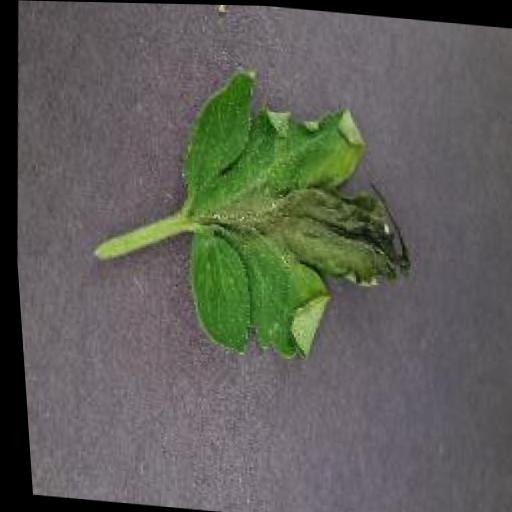Late Blight: (154, 65, 430, 375)
